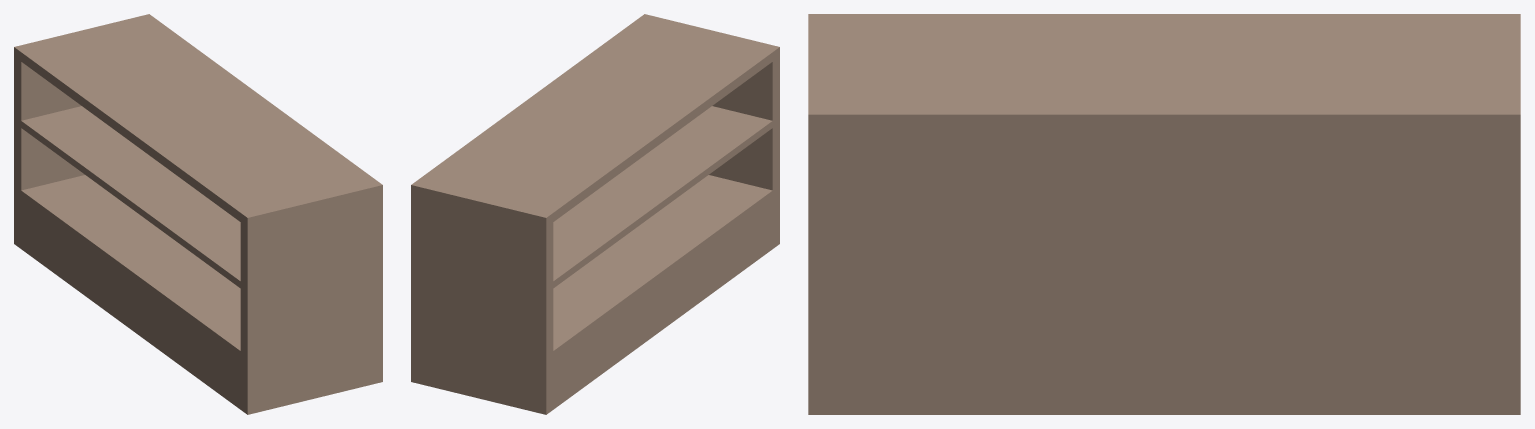
The model's file is DisplayShelf.fbx.
The picture shows the model from 3 angles, left to right: view 1: azimuth 30°, elevation 25°; view 2: azimuth 150°, elevation 25°; view 3: azimuth 270°, elevation 25°; orthographic projection. The views are drawn at different scales.
Visible parts, largest first — view 1: pCube308; view 2: pCube308; view 3: pCube308.
Boxes of the visible parts, x1,y1,x2,y2 form: pCube308: [14, 14, 382, 414]; pCube308: [411, 14, 779, 414]; pCube308: [808, 14, 1520, 414].
Bounding box in the file's own units: 100 × 139 × 299.
